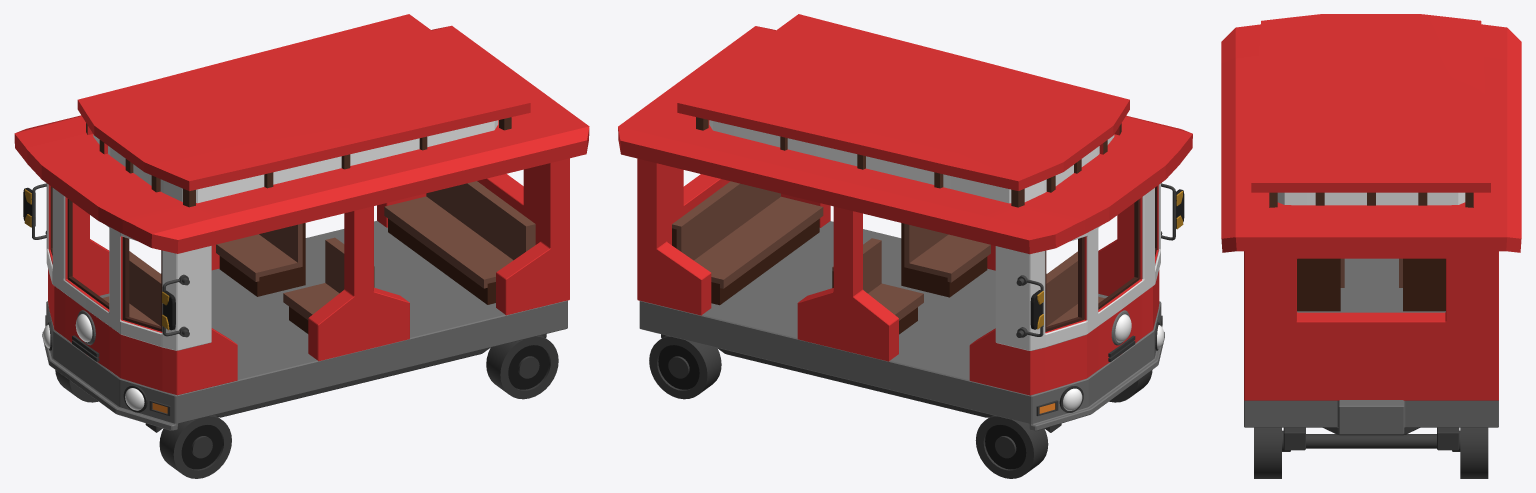
Rendered from tram.glb.
The picture shows the model from 3 angles, left to right: view 1: azimuth 30°, elevation 25°; view 2: azimuth 150°, elevation 25°; view 3: azimuth 270°, elevation 25°; orthographic projection.
Parts seen in each view (by area): view 1: Cube.017, Plane.017, Plane.012, Plane.009, Cube.015, Plane.011, Cube.013, Plane.015, Circle.013, Circle.018, Cube.014, Cube.012 (+2 smaller); view 2: Cube.017, Plane.017, Plane.012, Plane.009, Cube.015, Plane.011, Cube.014, Plane.015, Circle.014, Circle.017, Cube.013, Cube.012 (+2 smaller); view 3: Cube.017, Plane.009, Plane.017, Plane.012, Cube.014, Cube.013, Plane.015, Circle.015, Circle.014, Circle.013.
Boxes of the visible parts, x1,y1,x2,y2 form: Cube.017: (77,14,530,191); Plane.017: (14,25,589,253); Plane.012: (42,221,567,432); Plane.009: (48,158,569,395); Cube.015: (384,181,535,304); Plane.011: (46,183,211,350); Cube.013: (216,223,305,296); Plane.015: (93,120,498,203); Circle.013: (486,335,558,399); Circle.018: (159,415,231,478); Cube.014: (283,237,374,333); Cube.012: (102,251,161,326); Cube.017: (677,14,1129,190); Plane.017: (618,26,1192,254); Plane.012: (639,221,1164,432); Plane.009: (637,158,1159,395); Cube.015: (672,181,823,305); Plane.011: (995,183,1160,350); Cube.014: (901,223,990,297); Plane.015: (709,120,1114,203); Circle.014: (649,335,721,399); Circle.017: (975,415,1048,478); Cube.013: (832,238,923,334); Cube.012: (1046,251,1104,326); Cube.017: (1251,14,1490,192); Plane.009: (1244,251,1498,400); Plane.017: (1221,24,1521,252); Plane.012: (1244,258,1498,450); Cube.014: (1297,258,1344,311); Cube.013: (1399,258,1445,311); Plane.015: (1277,192,1465,205); Circle.015: (1282,430,1460,451); Circle.014: (1460,427,1488,478); Circle.013: (1254,427,1281,478).
Bounding box in the file's own units: 10.44 × 6.57 × 6.1.
